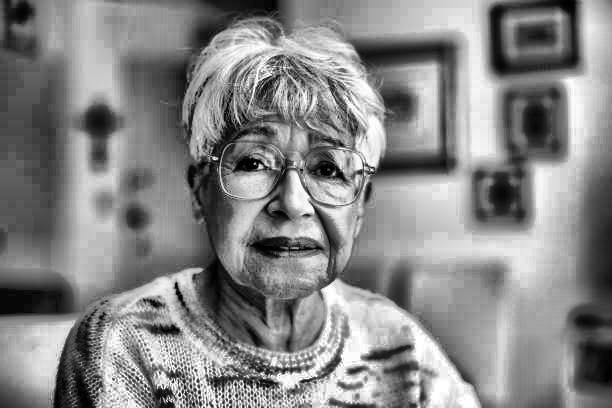sad: (205, 106, 366, 301)
